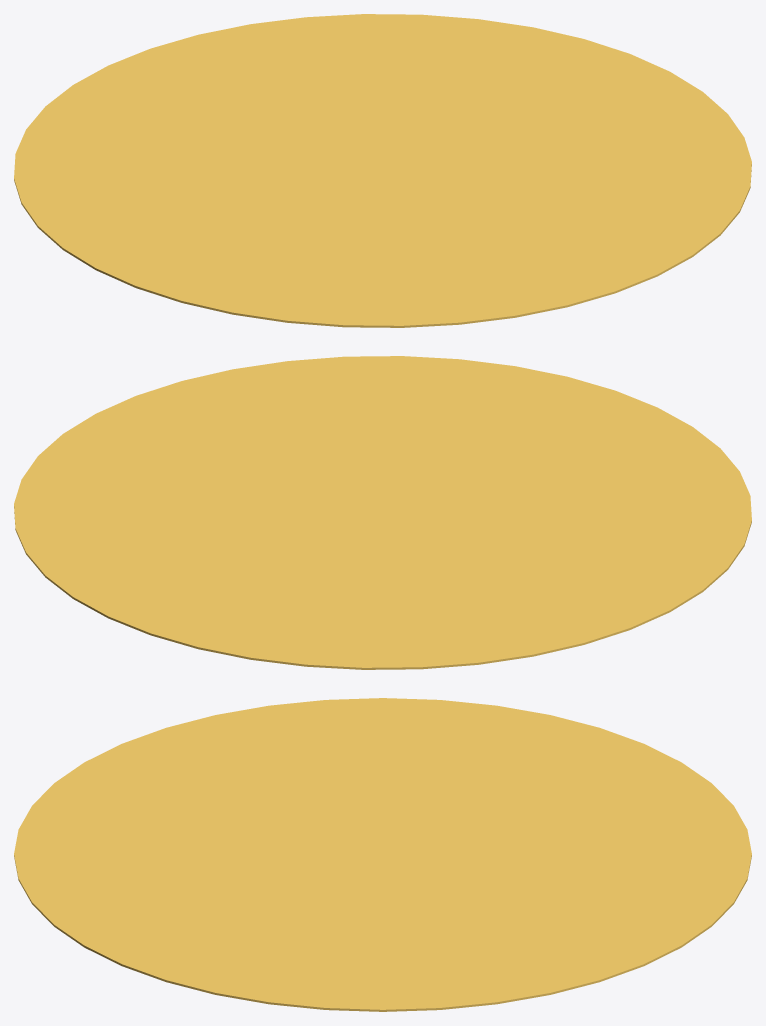
The model's file is Prop_F2_Circle.fbx.
3 views of the same model, one above another, from view 1: azimuth 30°, elevation 25°; view 2: azimuth 150°, elevation 25°; view 3: azimuth 270°, elevation 25° (orthographic).
Visible parts, largest first — view 1: F2_Circle; view 2: F2_Circle; view 3: F2_Circle.
Part boxes in pixels (box(x1,y1,x2,y2)): F2_Circle: box(14, 14, 751, 327); F2_Circle: box(14, 356, 751, 669); F2_Circle: box(14, 698, 751, 1011).
Size of the model in its own units: 749 by 2.28 by 749.
